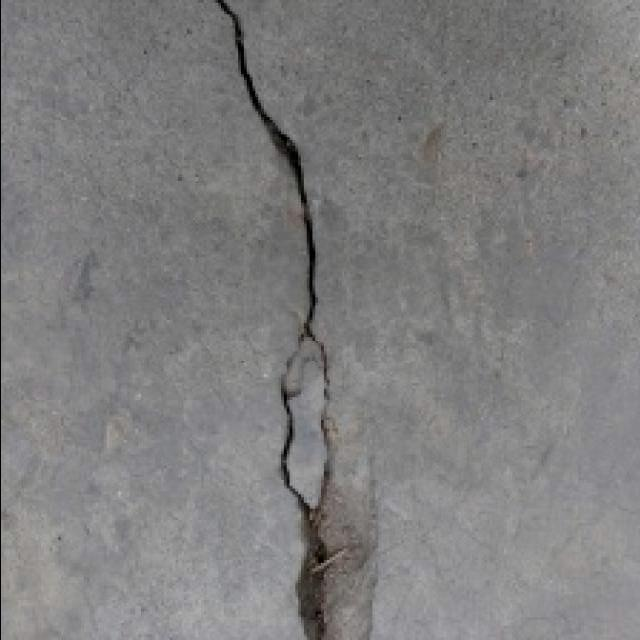SurfaceCrack: (206, 0, 370, 640)
